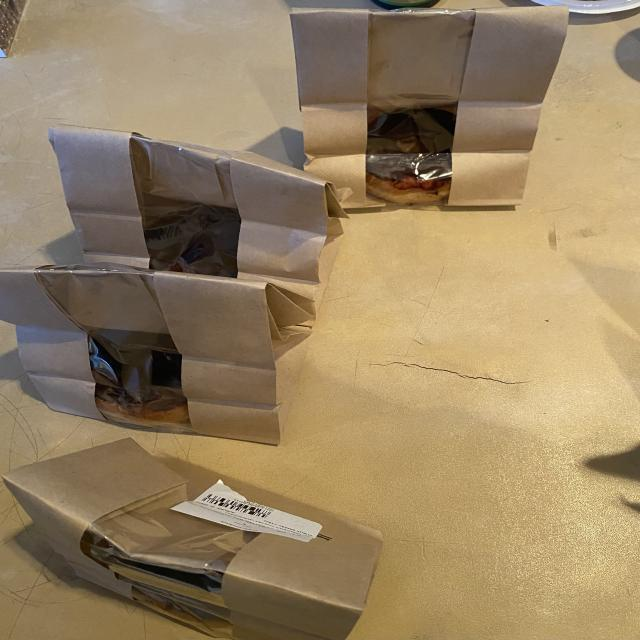Bread: (3, 439, 381, 640), (2, 262, 321, 444), (291, 6, 568, 208), (49, 125, 343, 281)
